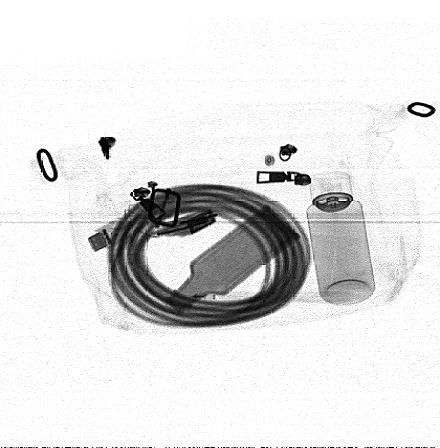Sprayer: (307, 172, 375, 306)
